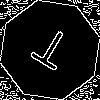T: (25, 25, 74, 79)
